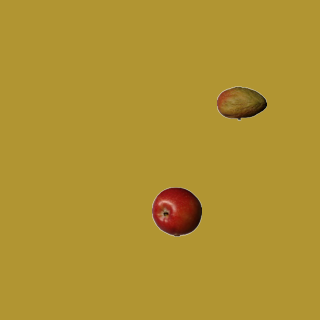Apple Braeburn: (151, 186, 201, 236)
Papaya: (216, 78, 266, 128)
